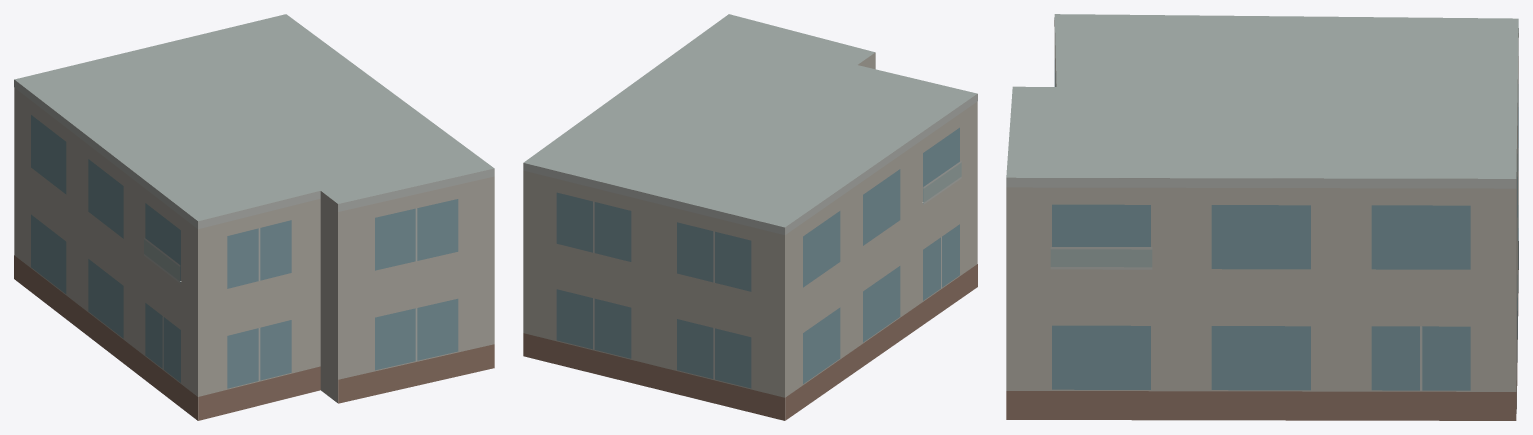
Rendered from survey-upis-32790516.glb.
The picture shows the model from 3 angles, left to right: view 1: azimuth 30°, elevation 25°; view 2: azimuth 150°, elevation 25°; view 3: azimuth 270°, elevation 25°; orthographic projection. The views are drawn at different scales.
Visible parts, largest first — view 1: survey-upis-32790516.tmp; view 2: survey-upis-32790516.tmp; view 3: survey-upis-32790516.tmp.
Boxes of the visible parts, x1,y1,x2,y2 form: survey-upis-32790516.tmp: [14, 14, 494, 420]; survey-upis-32790516.tmp: [523, 14, 977, 420]; survey-upis-32790516.tmp: [1006, 14, 1518, 420].
Size of the model in its own units: 8.93 by 6.1 by 11.72.
